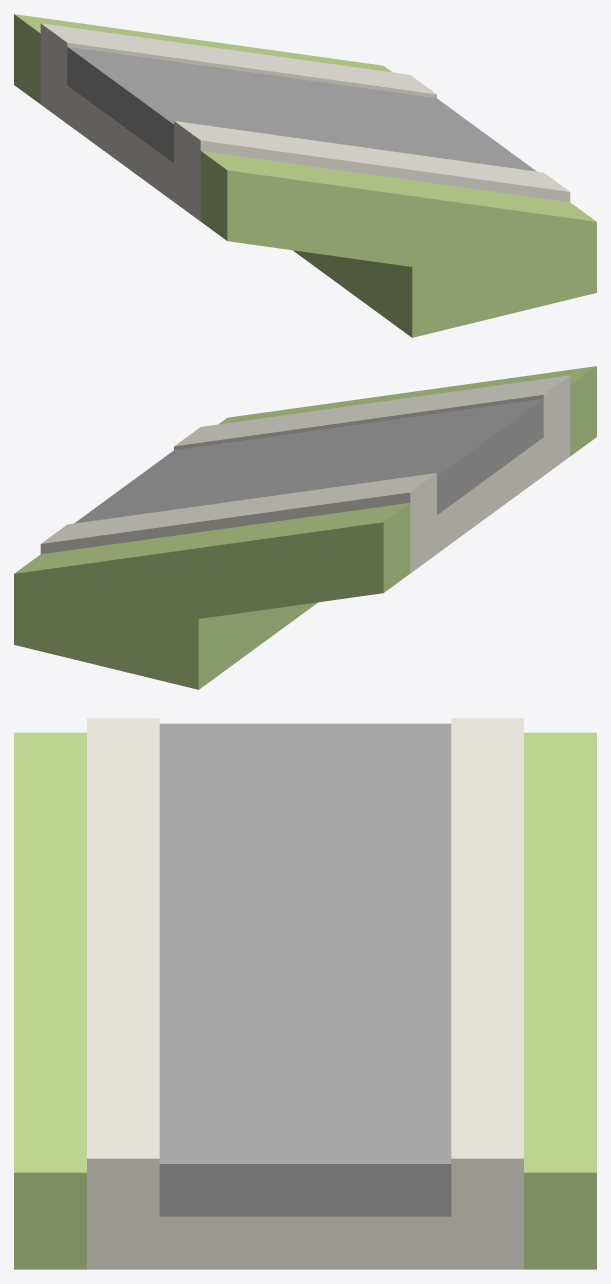
File: road_tile_165.glb
3 renders of one model, top to bottom at view 1: azimuth 30°, elevation 25°; view 2: azimuth 150°, elevation 25°; view 3: azimuth 270°, elevation 25°, orthographic. The views are drawn at different scales.
Parts seen in each view (by area): view 1: roadTile_165; view 2: roadTile_165; view 3: roadTile_165.
Part boxes in pixels (bbox=[...]): roadTile_165: bbox=[14, 14, 596, 337]; roadTile_165: bbox=[14, 366, 596, 689]; roadTile_165: bbox=[14, 718, 596, 1269].
Size of the model in its own units: 3 by 1.73 by 3.
